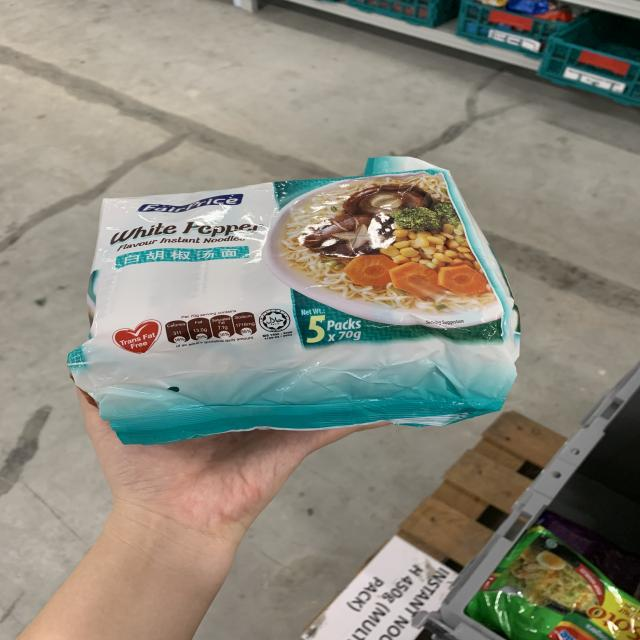object_name: (97, 187, 491, 413)
